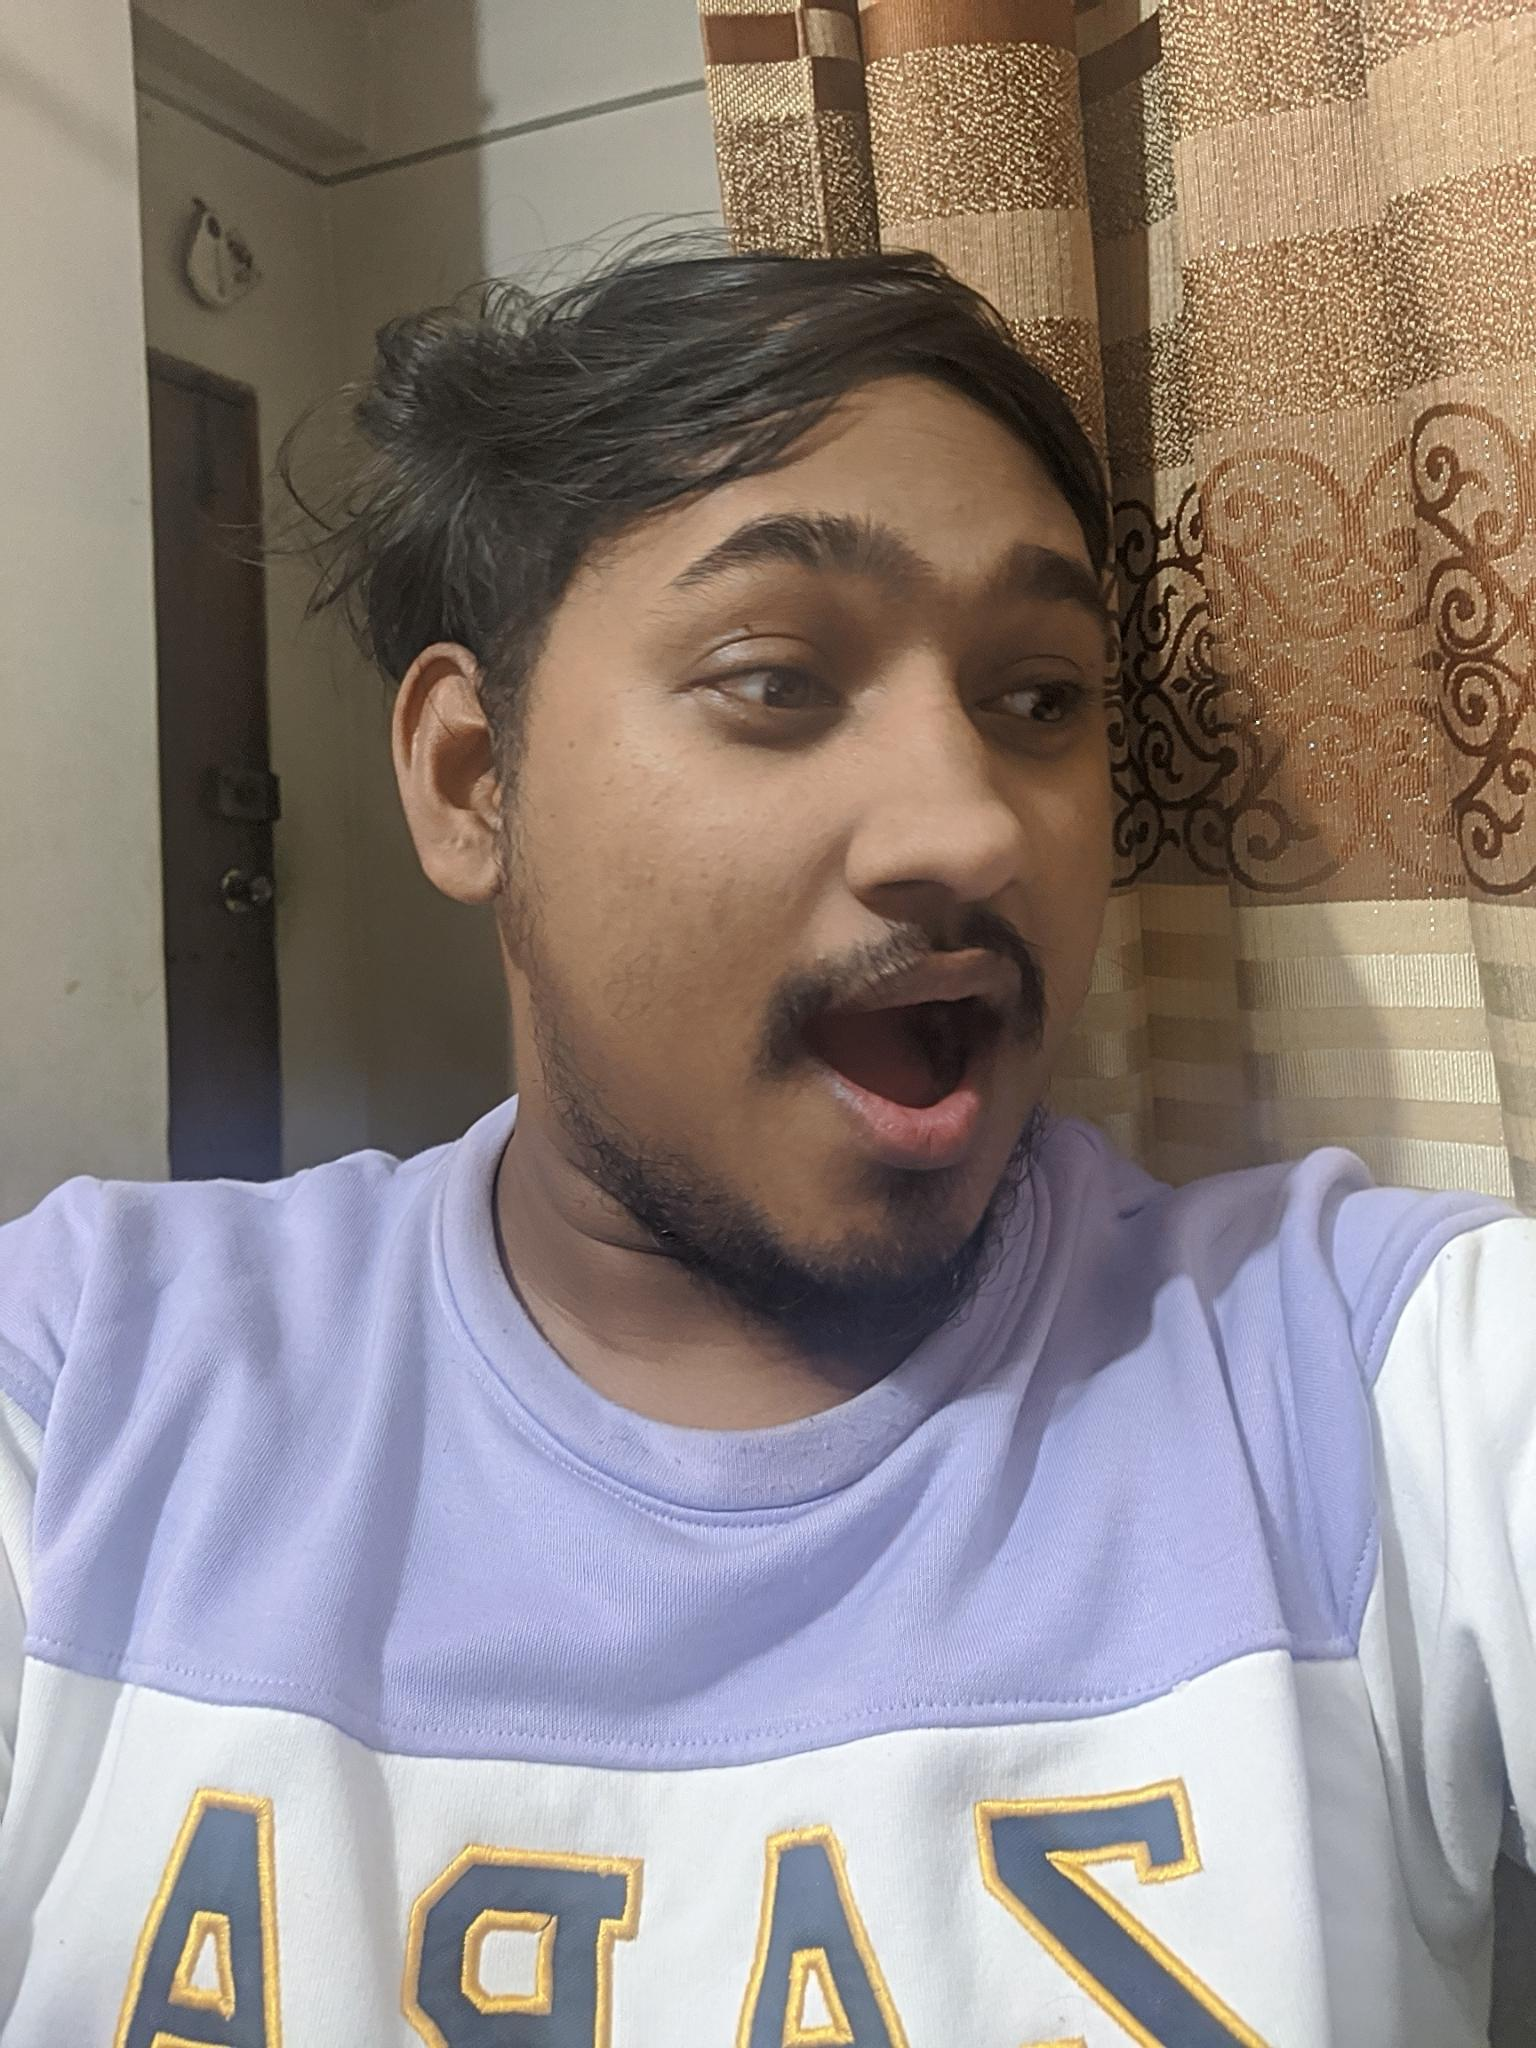Surprise: (565, 463, 1158, 1287)
